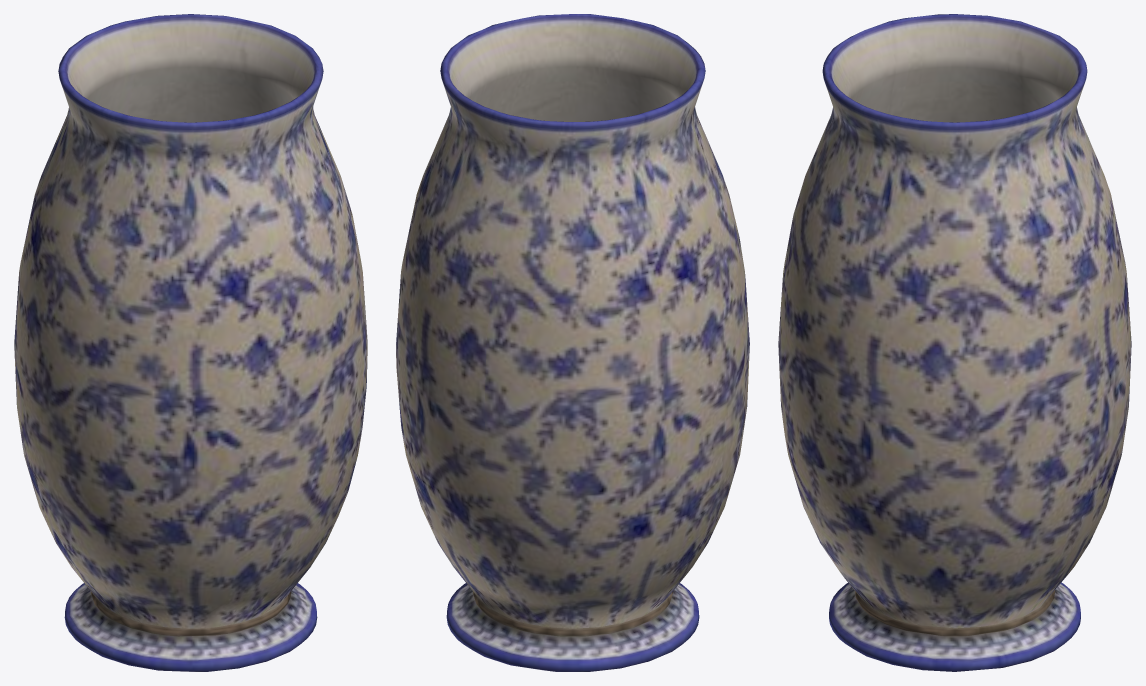
The model's file is antique_ceramic_vase_01.glb.
The picture shows the model from 3 angles, left to right: view 1: azimuth 30°, elevation 25°; view 2: azimuth 150°, elevation 25°; view 3: azimuth 270°, elevation 25°; orthographic projection.
Visible parts, largest first — view 1: antique_ceramic_vase_01; view 2: antique_ceramic_vase_01; view 3: antique_ceramic_vase_01.
Part boxes in pixels (box(x1,y1,x2,y2)): antique_ceramic_vase_01: box(14, 14, 367, 671); antique_ceramic_vase_01: box(396, 14, 749, 671); antique_ceramic_vase_01: box(778, 14, 1131, 671).
Bounding box in the file's own units: 0.2549 × 0.4396 × 0.255.
1 material, 1 textured.
